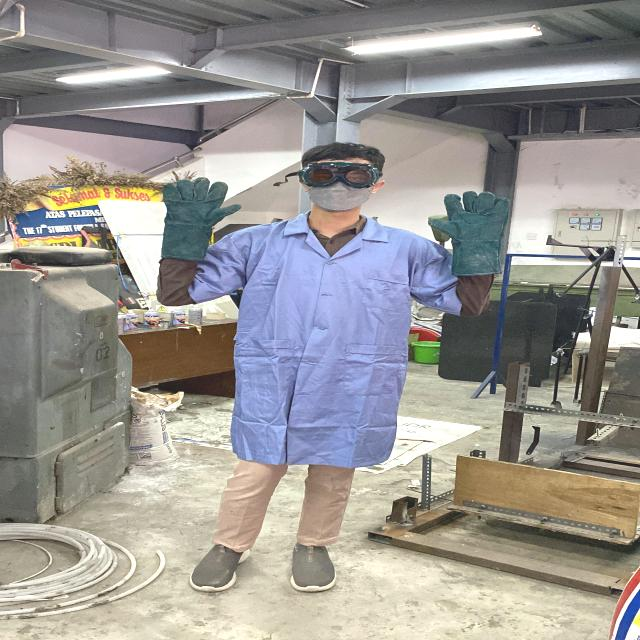face_mask: (293, 161, 383, 214)
glasses: (288, 157, 388, 190)
hand_glove: (424, 189, 520, 249), (152, 174, 242, 234)
head_nohelmet: (299, 138, 386, 166)
person: (124, 140, 528, 610)
shoes: (176, 536, 262, 592), (280, 534, 348, 594)
